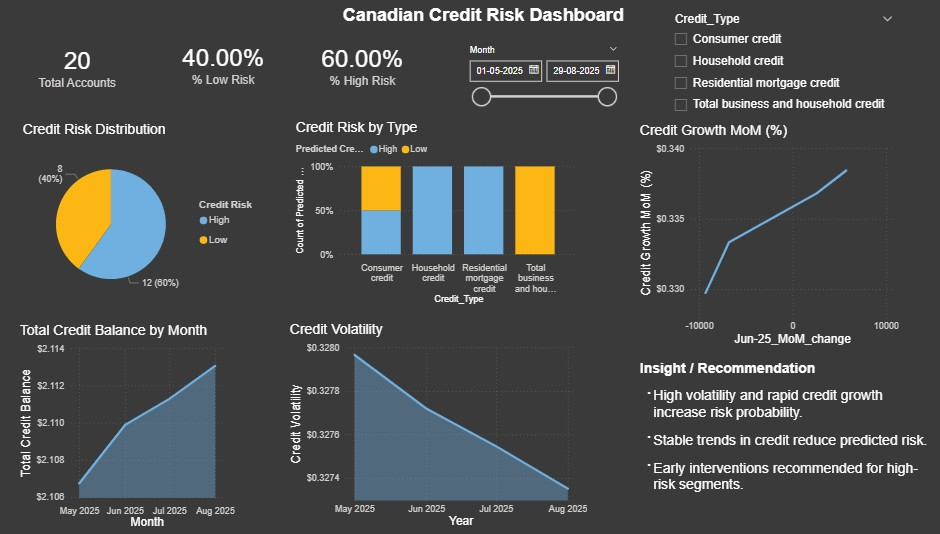

Layout of this report page (visuals, bound fields, positions):
{"tool":"powerbi","page":{"name":"Canadian Credit Risk Dashboard","canvas":[1280,720],"ordinal":0},"visuals":[{"type":"card","fields":{"Values":["predicted_credit_risk.% High Risk"]},"box":[402.4,49.8,184.4,84.9],"z":0},{"type":"card","fields":{"Values":["predicted_credit_risk.% Low Risk"]},"box":[221,48.3,178.5,84.9],"z":1000},{"type":"hundredPercentStackedColumnChart","title":"Credit Risk by Type","fields":{"Category":["predicted_credit_risk.Credit_Type"],"Y":["CountNonNull(predicted_credit_risk.Predicted Credit Risk)"],"Series":["predicted_credit_risk.Predicted Credit Risk"]},"box":[401,165.4,383.4,251.7],"z":2000},{"type":"pieChart","title":"Credit Risk Distribution","fields":{"Y":["CountNonNull(predicted_credit_risk.Predicted Credit Risk)"],"Category":["predicted_credit_risk.Predicted Credit Risk"]},"box":[38,166.8,332.2,253.2],"z":3000},{"type":"card","fields":{"Values":["predicted_credit_risk.Total Accounts"]},"box":[24.9,51.2,181.5,84.9],"z":4000},{"type":"slicer","fields":{"Values":["predicted_credit_risk.Credit_Type"]},"box":[897.1,19,314.6,146.3],"z":5000},{"type":"slicer","fields":{"Values":["predicted_credit_risk.Month"]},"box":[624.9,61.5,221,102.4],"z":6000},{"type":"areaChart","fields":{"Category":["predicted_credit_risk.Month"],"Y":["predicted_credit_risk.Total Credit Balance"]},"box":[35.1,434.6,295.6,279.5],"z":7000},{"type":"lineChart","title":"Credit Growth MoM (%) ","fields":{"Y":["predicted_credit_risk.Credit Growth MoM (%)"],"Category":["predicted_credit_risk.Jun-25_MoM_change"]},"box":[857.6,168.3,354.1,301.5],"z":8000},{"type":"areaChart","title":"Credit Volatility","fields":{"Category":["predicted_credit_risk.Month.Variation.Date Hierarchy.Year","predicted_credit_risk.Month.Variation.Date Hierarchy.Quarter","predicted_credit_risk.Month.Variation.Date Hierarchy.Month","predicted_credit_risk.Month.Variation.Date Hierarchy.Day"],"Y":["predicted_credit_risk.Credit Volatility"]},"box":[393.7,433.2,405.4,279.5],"z":9000},{"type":"textbox","box":[857.6,480,393.7,240],"z":10000},{"type":"textbox","box":[463.9,7.3,433.2,39.5],"z":11000}]}

Visuals, with their boxes in screenshot pixels (x1, y1, x2, y2), scaled from the page's 1280x720 canvas onto the 940x534 screenshot:
card - predicted_credit_risk.% High Risk: BBox(296, 37, 431, 100)
card - predicted_credit_risk.% Low Risk: BBox(162, 36, 293, 99)
"Credit Risk by Type" hundredPercentStackedColumnChart: BBox(294, 123, 576, 309)
"Credit Risk Distribution" pieChart: BBox(28, 124, 272, 312)
card - predicted_credit_risk.Total Accounts: BBox(18, 38, 152, 101)
slicer - predicted_credit_risk.Credit_Type: BBox(659, 14, 890, 123)
slicer - predicted_credit_risk.Month: BBox(459, 46, 621, 122)
areaChart - predicted_credit_risk.Month x predicted_credit_risk.Total Credit Balance: BBox(26, 322, 243, 530)
"Credit Growth MoM (%) " lineChart: BBox(630, 125, 890, 348)
"Credit Volatility" areaChart: BBox(289, 321, 587, 529)
textbox: BBox(630, 356, 919, 533)
textbox: BBox(341, 5, 659, 35)
